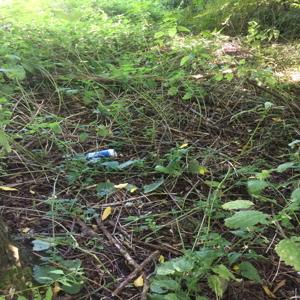metal: (80, 148, 123, 167)
